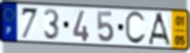3: (43, 8, 61, 41)
4: (71, 8, 91, 43)
5: (96, 10, 116, 44)
7: (19, 6, 41, 40)
A: (146, 12, 172, 48)
C: (124, 10, 147, 47)
